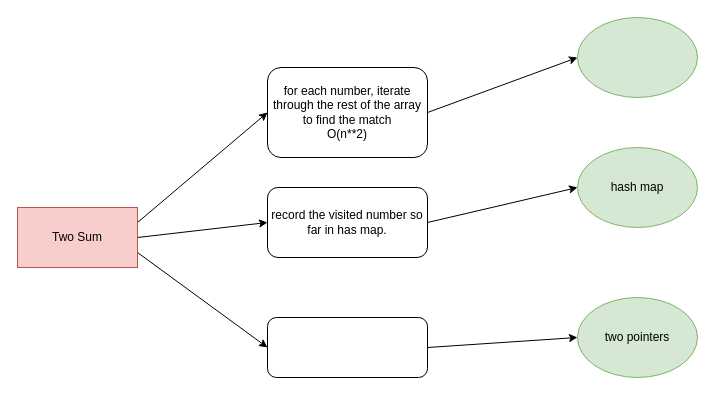
Image size: 715x395. Some labels were removed from this diagram. Each missing label, with the centre of its shape:
brute force: (x=637, y=57)
sort the array and create two pointers walking closer: (x=347, y=347)
